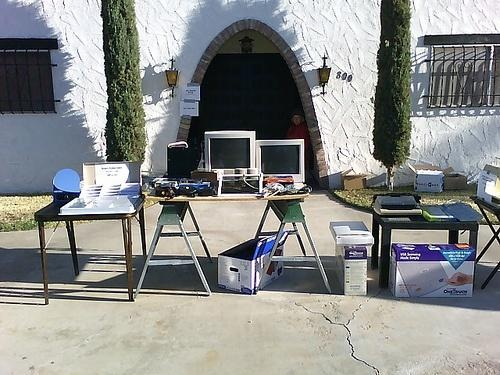tvmonitor: (202, 132, 259, 181), (254, 141, 308, 192)
